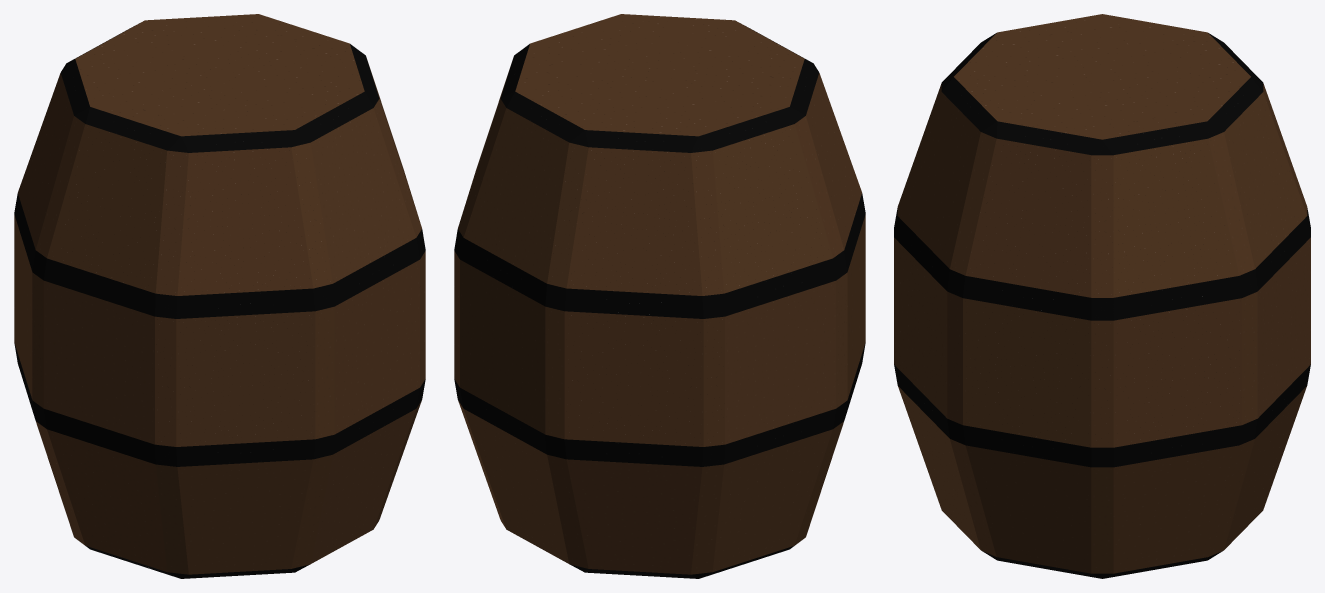
File: barrel.fbx
3 renders of one model, left to right at view 1: azimuth 30°, elevation 25°; view 2: azimuth 150°, elevation 25°; view 3: azimuth 270°, elevation 25°, orthographic.
Visible parts, largest first — view 1: Cylinder; view 2: Cylinder; view 3: Cylinder.
Boxes of the visible parts, left/top/right/bottom form: Cylinder: left=14, top=14, right=425, bottom=578; Cylinder: left=454, top=14, right=865, bottom=578; Cylinder: left=894, top=14, right=1310, bottom=578.
Size of the model in its own units: 258 by 300 by 258.
